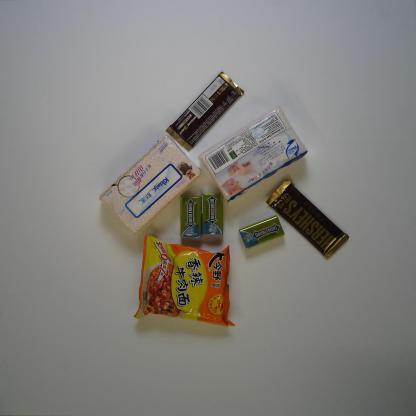Chocolate: (265, 176, 349, 261), (165, 70, 245, 152)
Gum: (238, 214, 285, 252), (179, 192, 203, 238), (200, 190, 223, 235)
Instant Noodles: (133, 235, 235, 328)
Tissue: (196, 104, 309, 204), (98, 134, 204, 236)
